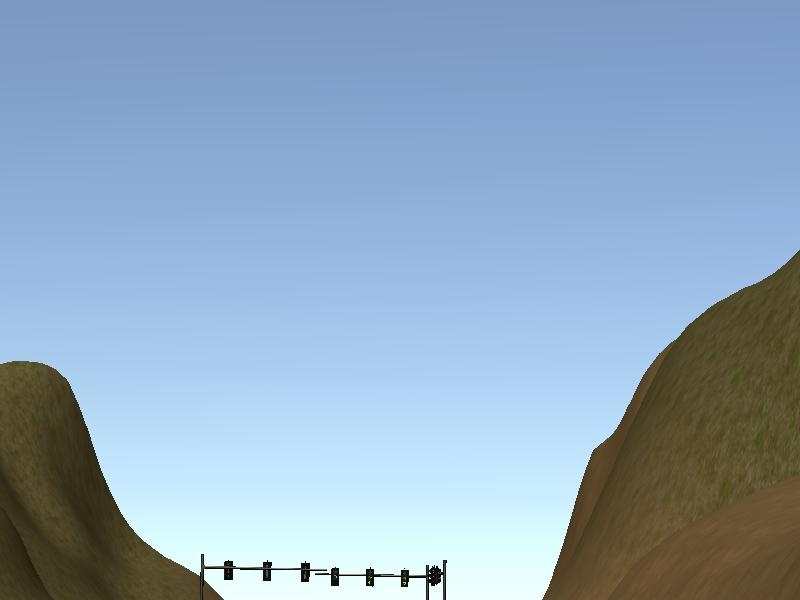traffic_light_green: (319, 566, 425, 588)
